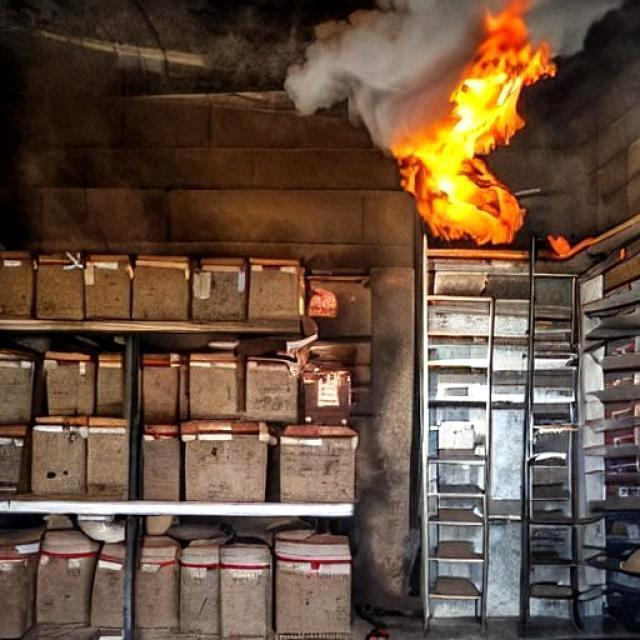Fire: (394, 28, 574, 245)
Smoke: (284, 5, 450, 154)
